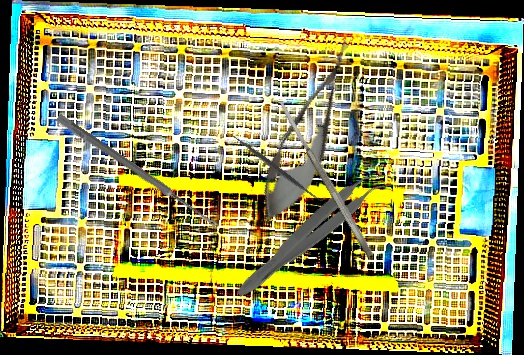Micro Scissor: (245, 28, 372, 234)
Spatula Surgical: (277, 99, 375, 259), (224, 127, 326, 208)
Surgical Spoon: (54, 113, 222, 231)
Tissue Forceps: (230, 160, 395, 310)
